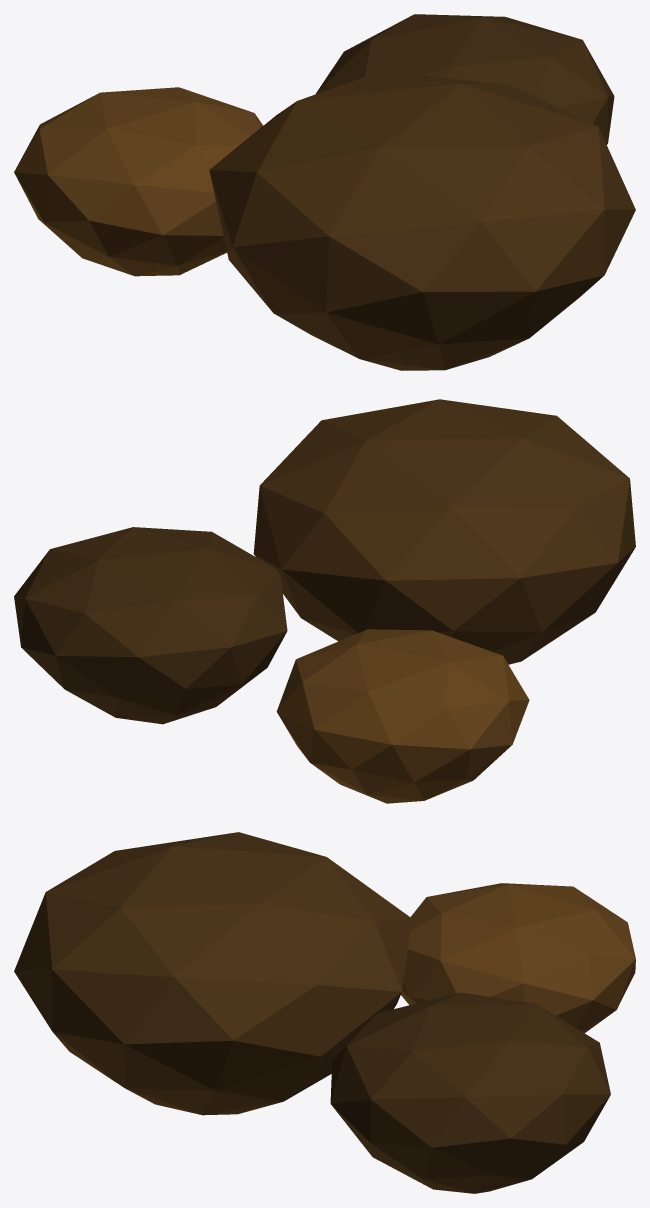
The model's file is SM__Desert__Shrub__Growth__1.fbx.
3 views of the same model, one above another, from view 1: azimuth 30°, elevation 25°; view 2: azimuth 150°, elevation 25°; view 3: azimuth 270°, elevation 25° (orthographic). The views are drawn at different scales.
Parts seen in each view (by area): view 1: normal18; view 2: normal18; view 3: normal18.
Part boxes in pixels (x1,y1,x2,y2): normal18: (14, 14, 635, 370); normal18: (14, 399, 635, 803); normal18: (14, 832, 635, 1193).
Size of the model in its own units: 2.22 by 0.9515 by 2.38.
